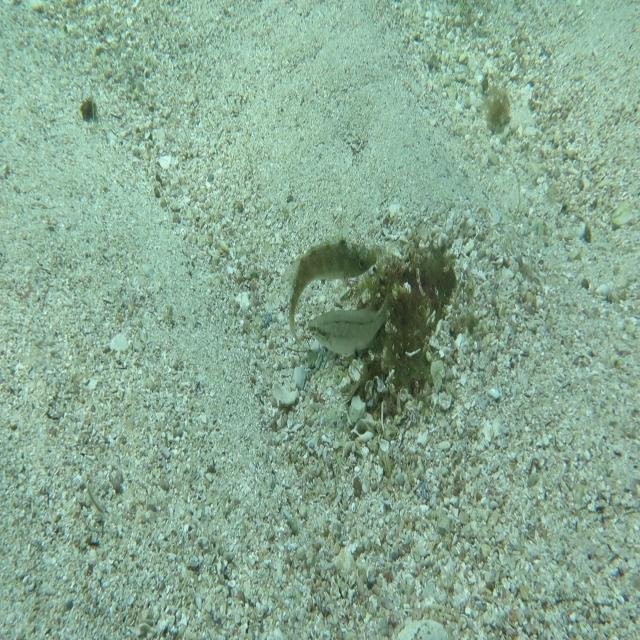DAN_CIRC: (283, 230, 378, 358)
female: (304, 286, 392, 362)
nest: (331, 220, 468, 436)
